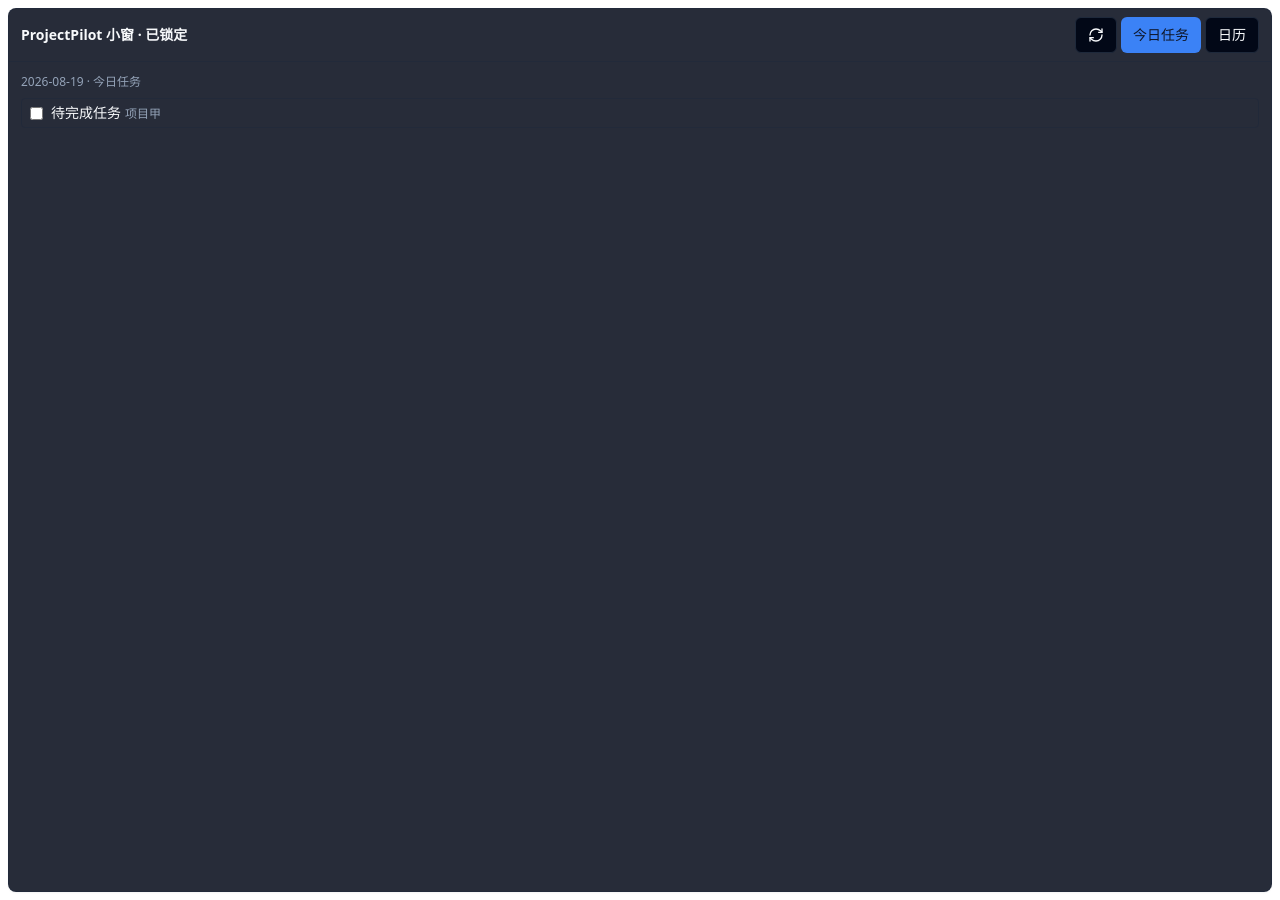
Test case: DesktopWidgetApp task confirmation and refresh › keeps the original task and reports a save failure
This screenshot has width=1280, height=900.
Expected: the button "待完成任务" is shown, left=51, top=103, right=1242, bottom=123
Click the checkbox named "完成 待完成任务": click(36, 113) left=30, top=106, right=43, bottom=120
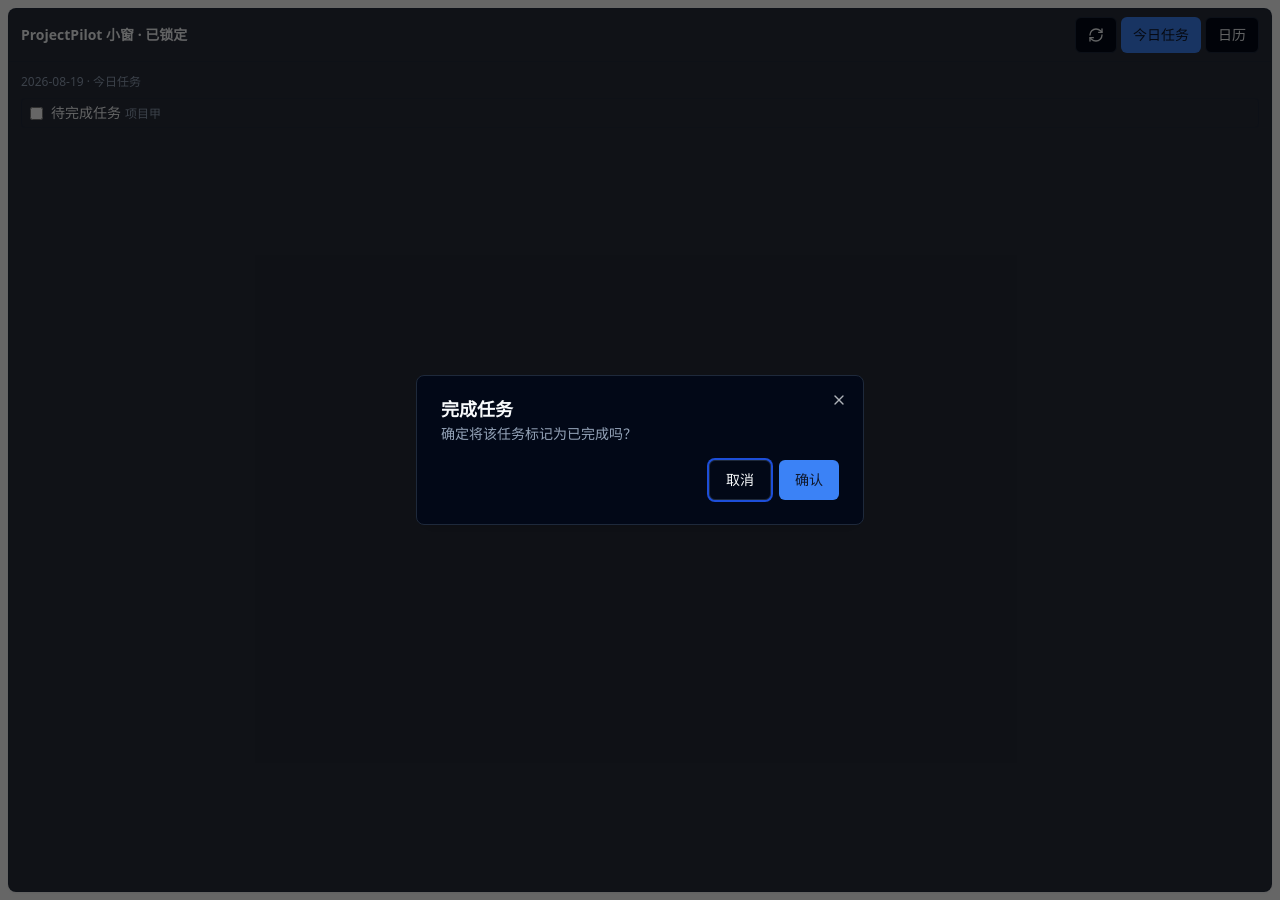
Click the button "确认": click(809, 480) left=779, top=460, right=839, bottom=500
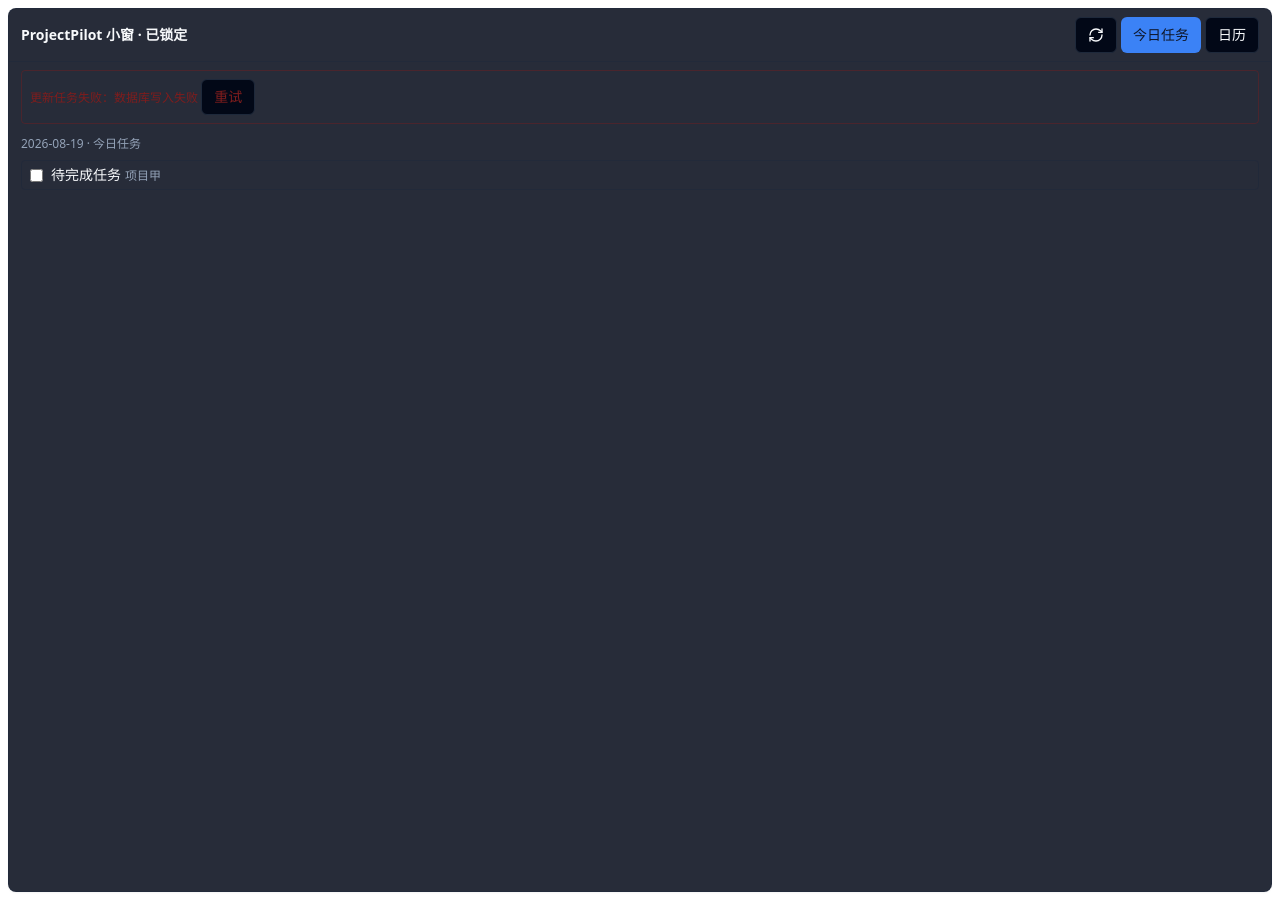
Expected: the message shows "更新任务失败：数据库写入失败", left=30, top=89, right=198, bottom=106
